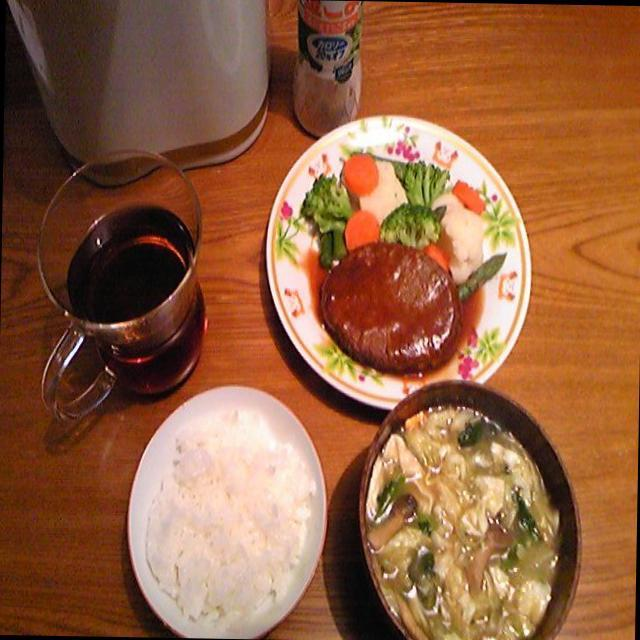Rice: (134, 400, 316, 620)
